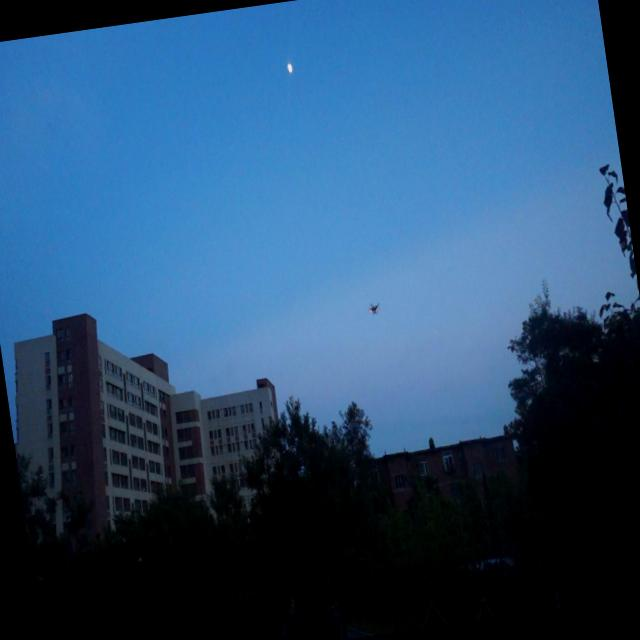drone: (366, 297, 383, 321)
